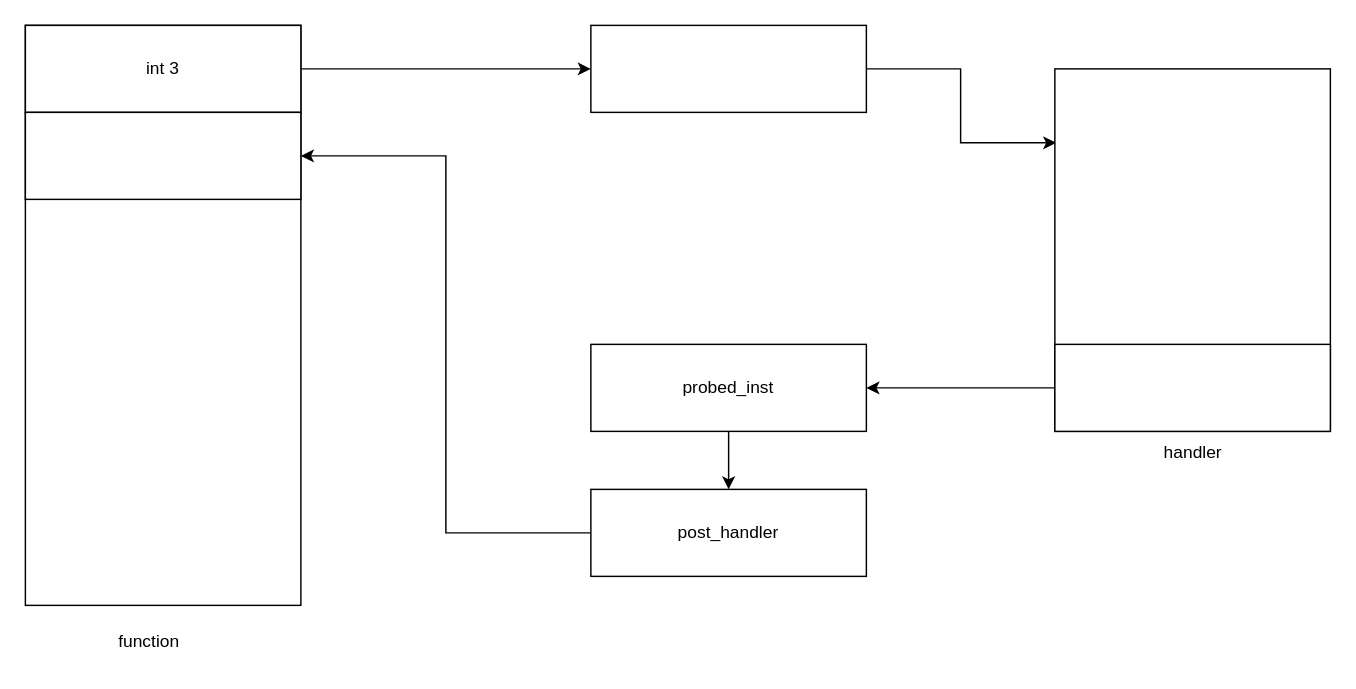
This 1356x689 diagram has some shape labels left out. The centre of each missing label's shape, as x and y in pixels:
"jprobe_return" belongs at (x=1191, y=387).
"setjmp_pre_handler" belongs at (x=727, y=68).
